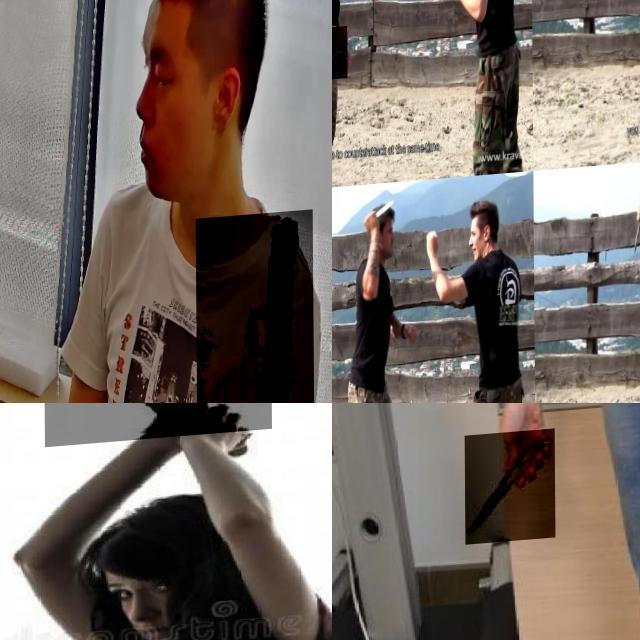-: (44, 403, 271, 462), (464, 433, 555, 548), (362, 195, 395, 233), (332, 28, 347, 82), (629, 201, 640, 265)
gun-knife-thesis - v11 Yolov5 augmented: (194, 218, 313, 403)
